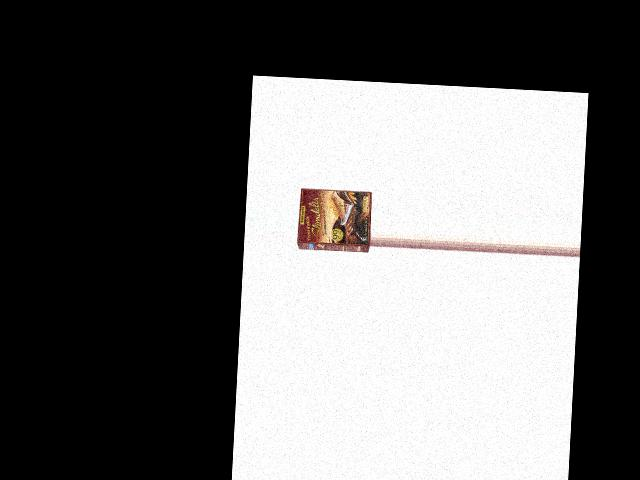chocolate: (295, 181, 373, 256)
